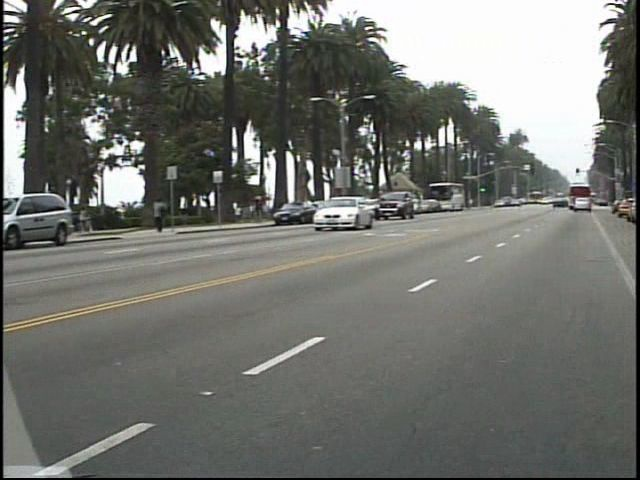person: (157, 194, 179, 234), (257, 189, 277, 224)
